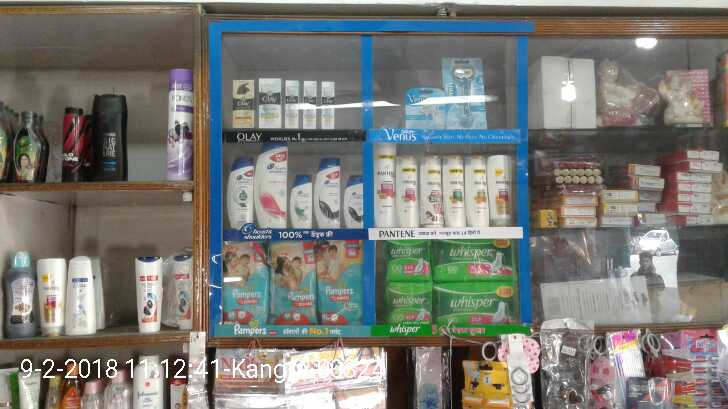venus: (442, 55, 482, 128), (407, 88, 442, 128)
